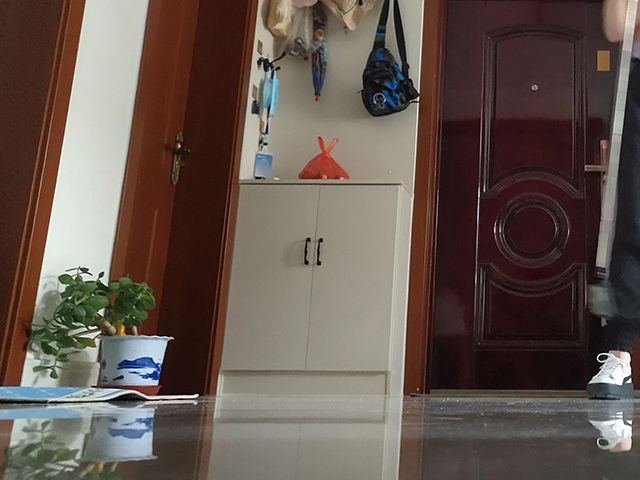cabinet: (215, 168, 415, 399)
carpet: (1, 384, 201, 406)
